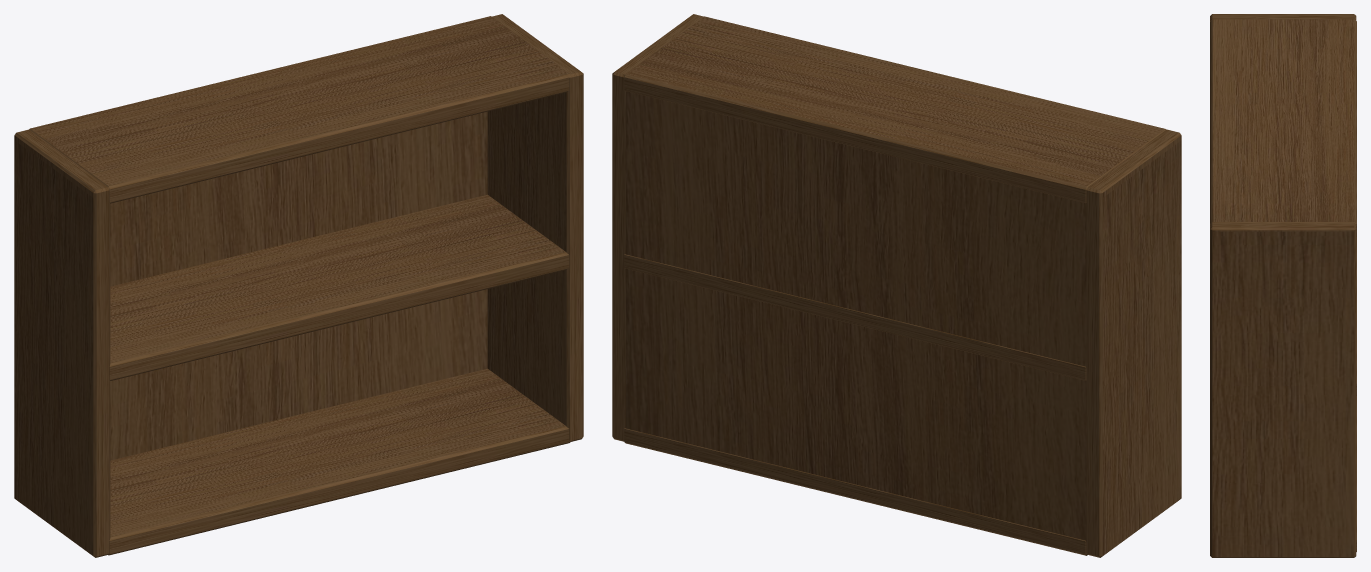
Rendered from Bookshelf2.fbx.
The picture shows the model from 3 angles, left to right: view 1: azimuth 30°, elevation 25°; view 2: azimuth 150°, elevation 25°; view 3: azimuth 270°, elevation 25°; orthographic projection. The views are drawn at different scales.
Visible parts, largest first — view 1: Bookshelf001; view 2: Bookshelf001; view 3: Bookshelf001.
Boxes of the visible parts, box(x1,y1,x2,y2) form: Bookshelf001: box(14, 14, 583, 557); Bookshelf001: box(612, 14, 1181, 557); Bookshelf001: box(1210, 14, 1356, 557).
Bounding box in the file's own units: 11.64 × 8.38 × 3.36.
